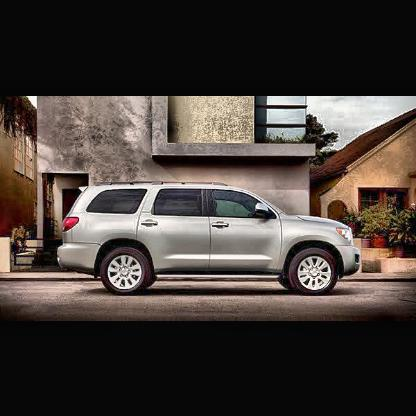Toyota Sequoia SUV 2012: (54, 182, 366, 301)
